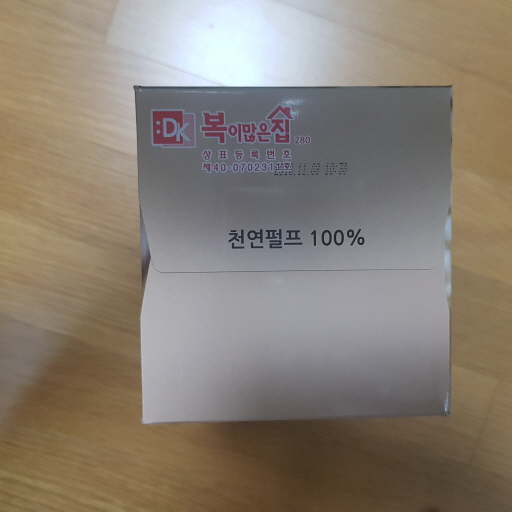Paper_0: (102, 71, 471, 446)
